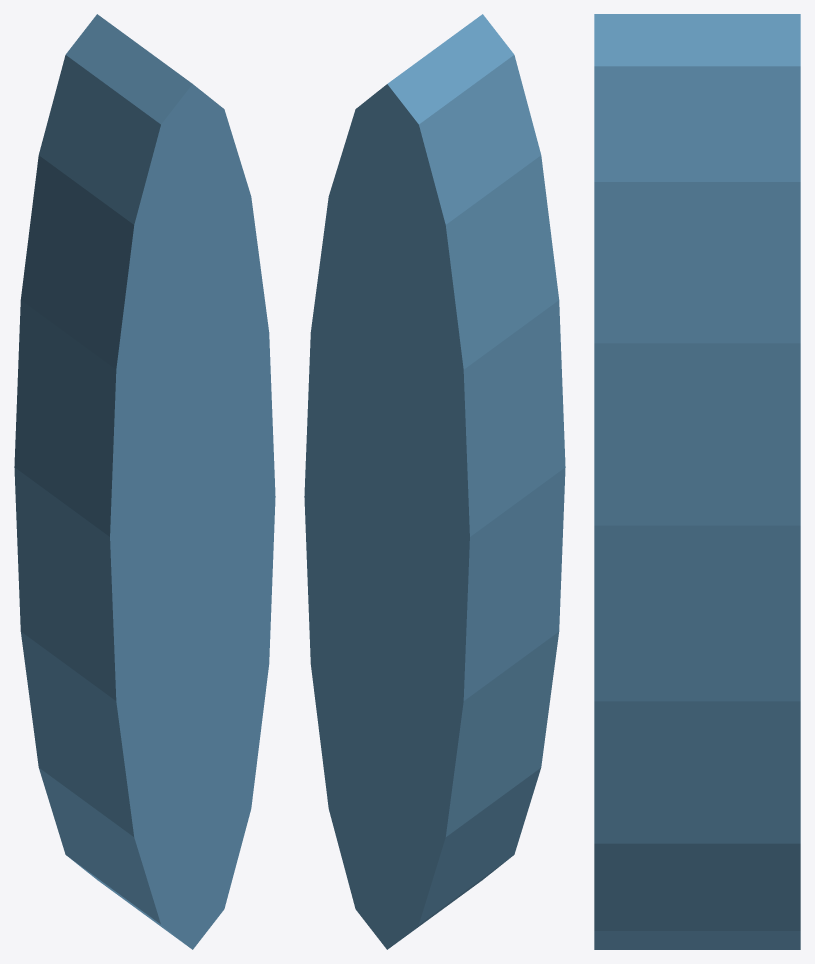
The model's file is oval-wheela30ac6d2.glb.
3 renders of one model, left to right at view 1: azimuth 30°, elevation 25°; view 2: azimuth 150°, elevation 25°; view 3: azimuth 270°, elevation 25°, orthographic. The views are drawn at different scales.
Visible parts, largest first — view 1: oval_wheel; view 2: oval_wheel; view 3: oval_wheel.
Part boxes in pixels (box(x1,y1,x2,y2)): oval_wheel: box(14, 14, 275, 949); oval_wheel: box(304, 14, 565, 949); oval_wheel: box(594, 14, 800, 949).
Bounding box in the file's own units: 3.6 × 18 × 3.6.
